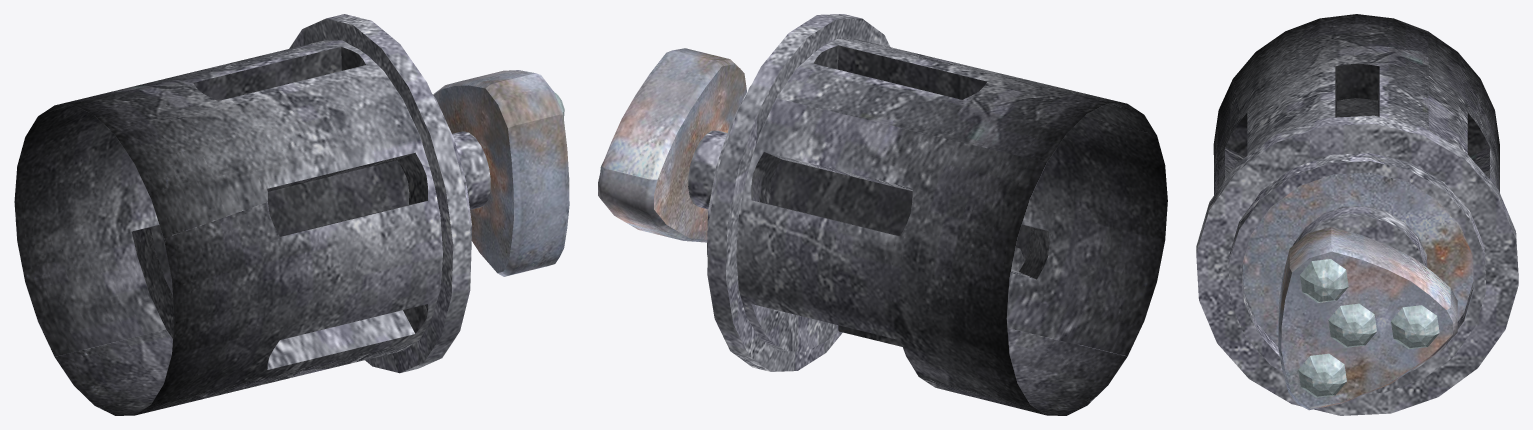
The model's file is moteur1.fbx.
3 views of the same model, side by side, from view 1: azimuth 30°, elevation 25°; view 2: azimuth 150°, elevation 25°; view 3: azimuth 270°, elevation 25° (orthographic). The views are drawn at different scales.
Visible parts, largest first — view 1: bi_podfinal:polySurface4; view 2: bi_podfinal:polySurface4; view 3: bi_podfinal:polySurface4.
Part boxes in pixels (x1=…): bi_podfinal:polySurface4: x1=14, y1=14, x2=569, y2=415; bi_podfinal:polySurface4: x1=598, y1=14, x2=1167, y2=415; bi_podfinal:polySurface4: x1=1196, y1=14, x2=1518, y2=415.
Bounding box in the file's own units: 1.49 × 1.04 × 1.04.
